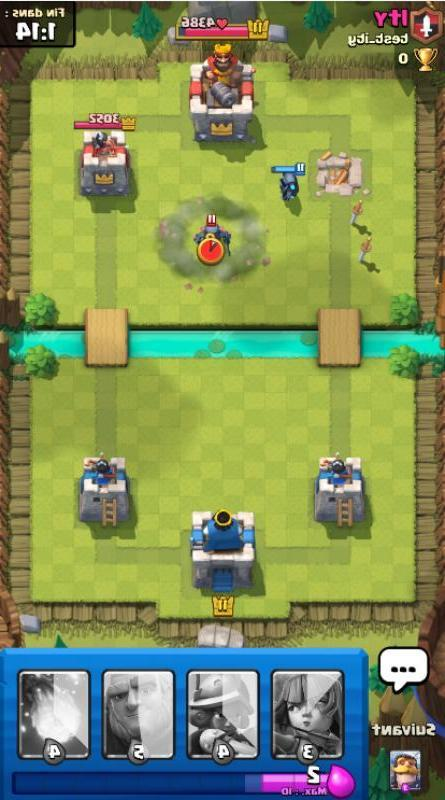enemy_mini_pekka: (189, 211, 236, 257)
player_mini_pekka: (268, 160, 308, 206)
